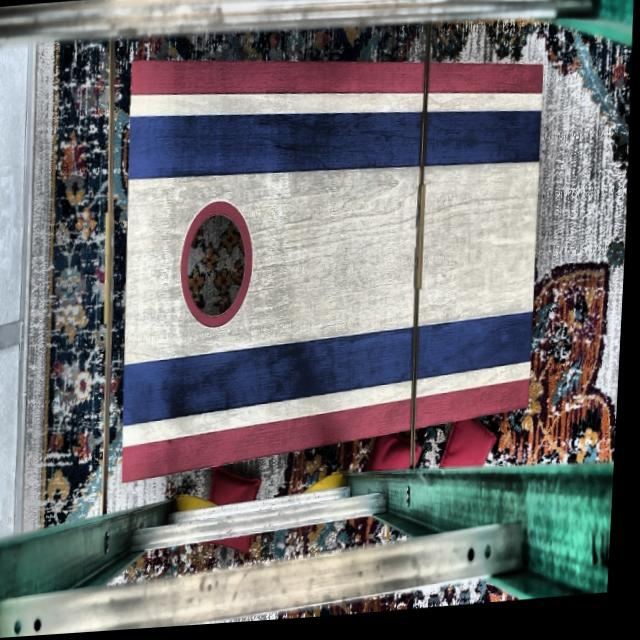board: (121, 70, 545, 442)
hole: (179, 199, 258, 332)
red-bean-bag: (210, 465, 267, 561), (442, 425, 502, 475), (368, 438, 426, 478)
